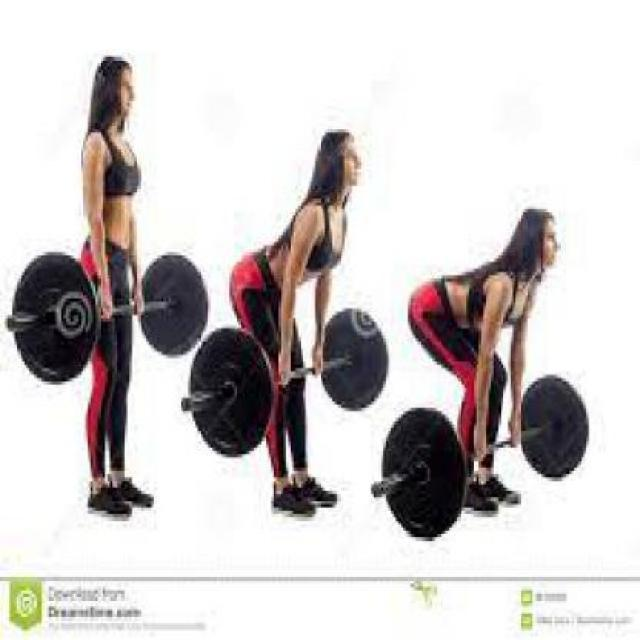Barbell: (367, 476, 385, 502), (176, 394, 193, 417), (6, 312, 20, 336)
